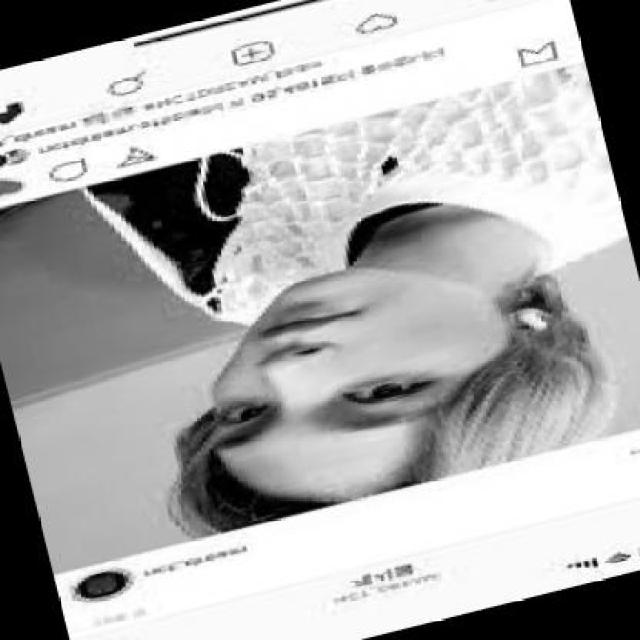earphone: (506, 290, 578, 353)
